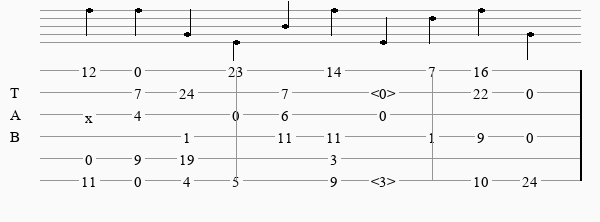0: (85, 151, 97, 165), (134, 173, 146, 187), (134, 63, 146, 77), (232, 107, 244, 121), (379, 107, 391, 121), (526, 129, 538, 143), (526, 85, 538, 99)
1: (183, 129, 195, 143), (428, 129, 440, 143)
10: (473, 173, 493, 187)
11: (81, 173, 101, 187), (277, 129, 297, 143), (326, 129, 346, 143)
12: (81, 63, 101, 77)
14: (326, 63, 346, 77)
16: (473, 63, 493, 77)
19: (179, 151, 199, 165)
22: (473, 85, 493, 99)
23: (228, 63, 248, 77)
24: (179, 85, 199, 99), (522, 173, 542, 187)
3: (330, 151, 342, 165)
4: (134, 107, 146, 121), (183, 173, 195, 187)
5: (232, 173, 244, 187)
6: (281, 107, 293, 121)
7: (134, 85, 146, 99), (281, 85, 293, 99), (428, 63, 440, 77)
9: (134, 151, 146, 165), (330, 173, 342, 187), (477, 129, 489, 143)
harmonic: (371, 173, 400, 187), (371, 85, 400, 99)
x: (85, 109, 97, 120)
